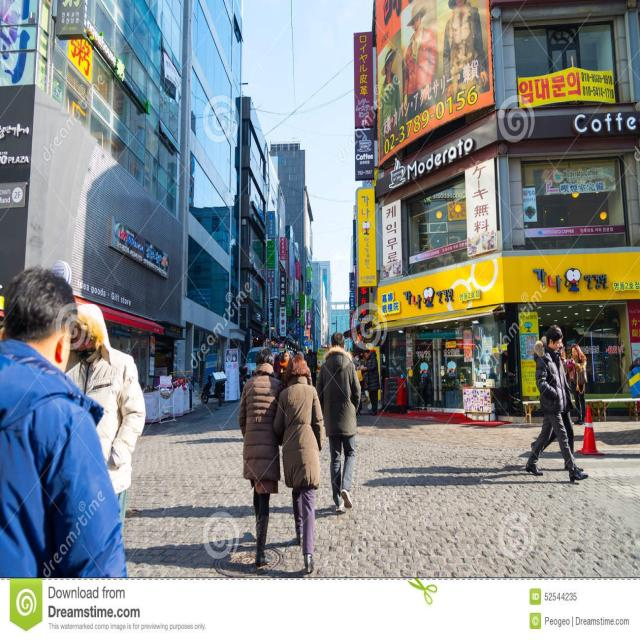body: (0, 267, 128, 579), (64, 302, 147, 538), (274, 352, 326, 576), (236, 343, 285, 570), (524, 322, 590, 485), (316, 330, 363, 514), (529, 324, 585, 474), (443, 0, 487, 96), (402, 8, 434, 114), (376, 45, 398, 129), (568, 342, 588, 426), (361, 346, 382, 417), (353, 352, 364, 416), (296, 350, 313, 386), (278, 348, 292, 383), (272, 351, 282, 391), (305, 345, 316, 375), (264, 337, 279, 348), (556, 344, 566, 358), (218, 363, 226, 373)
